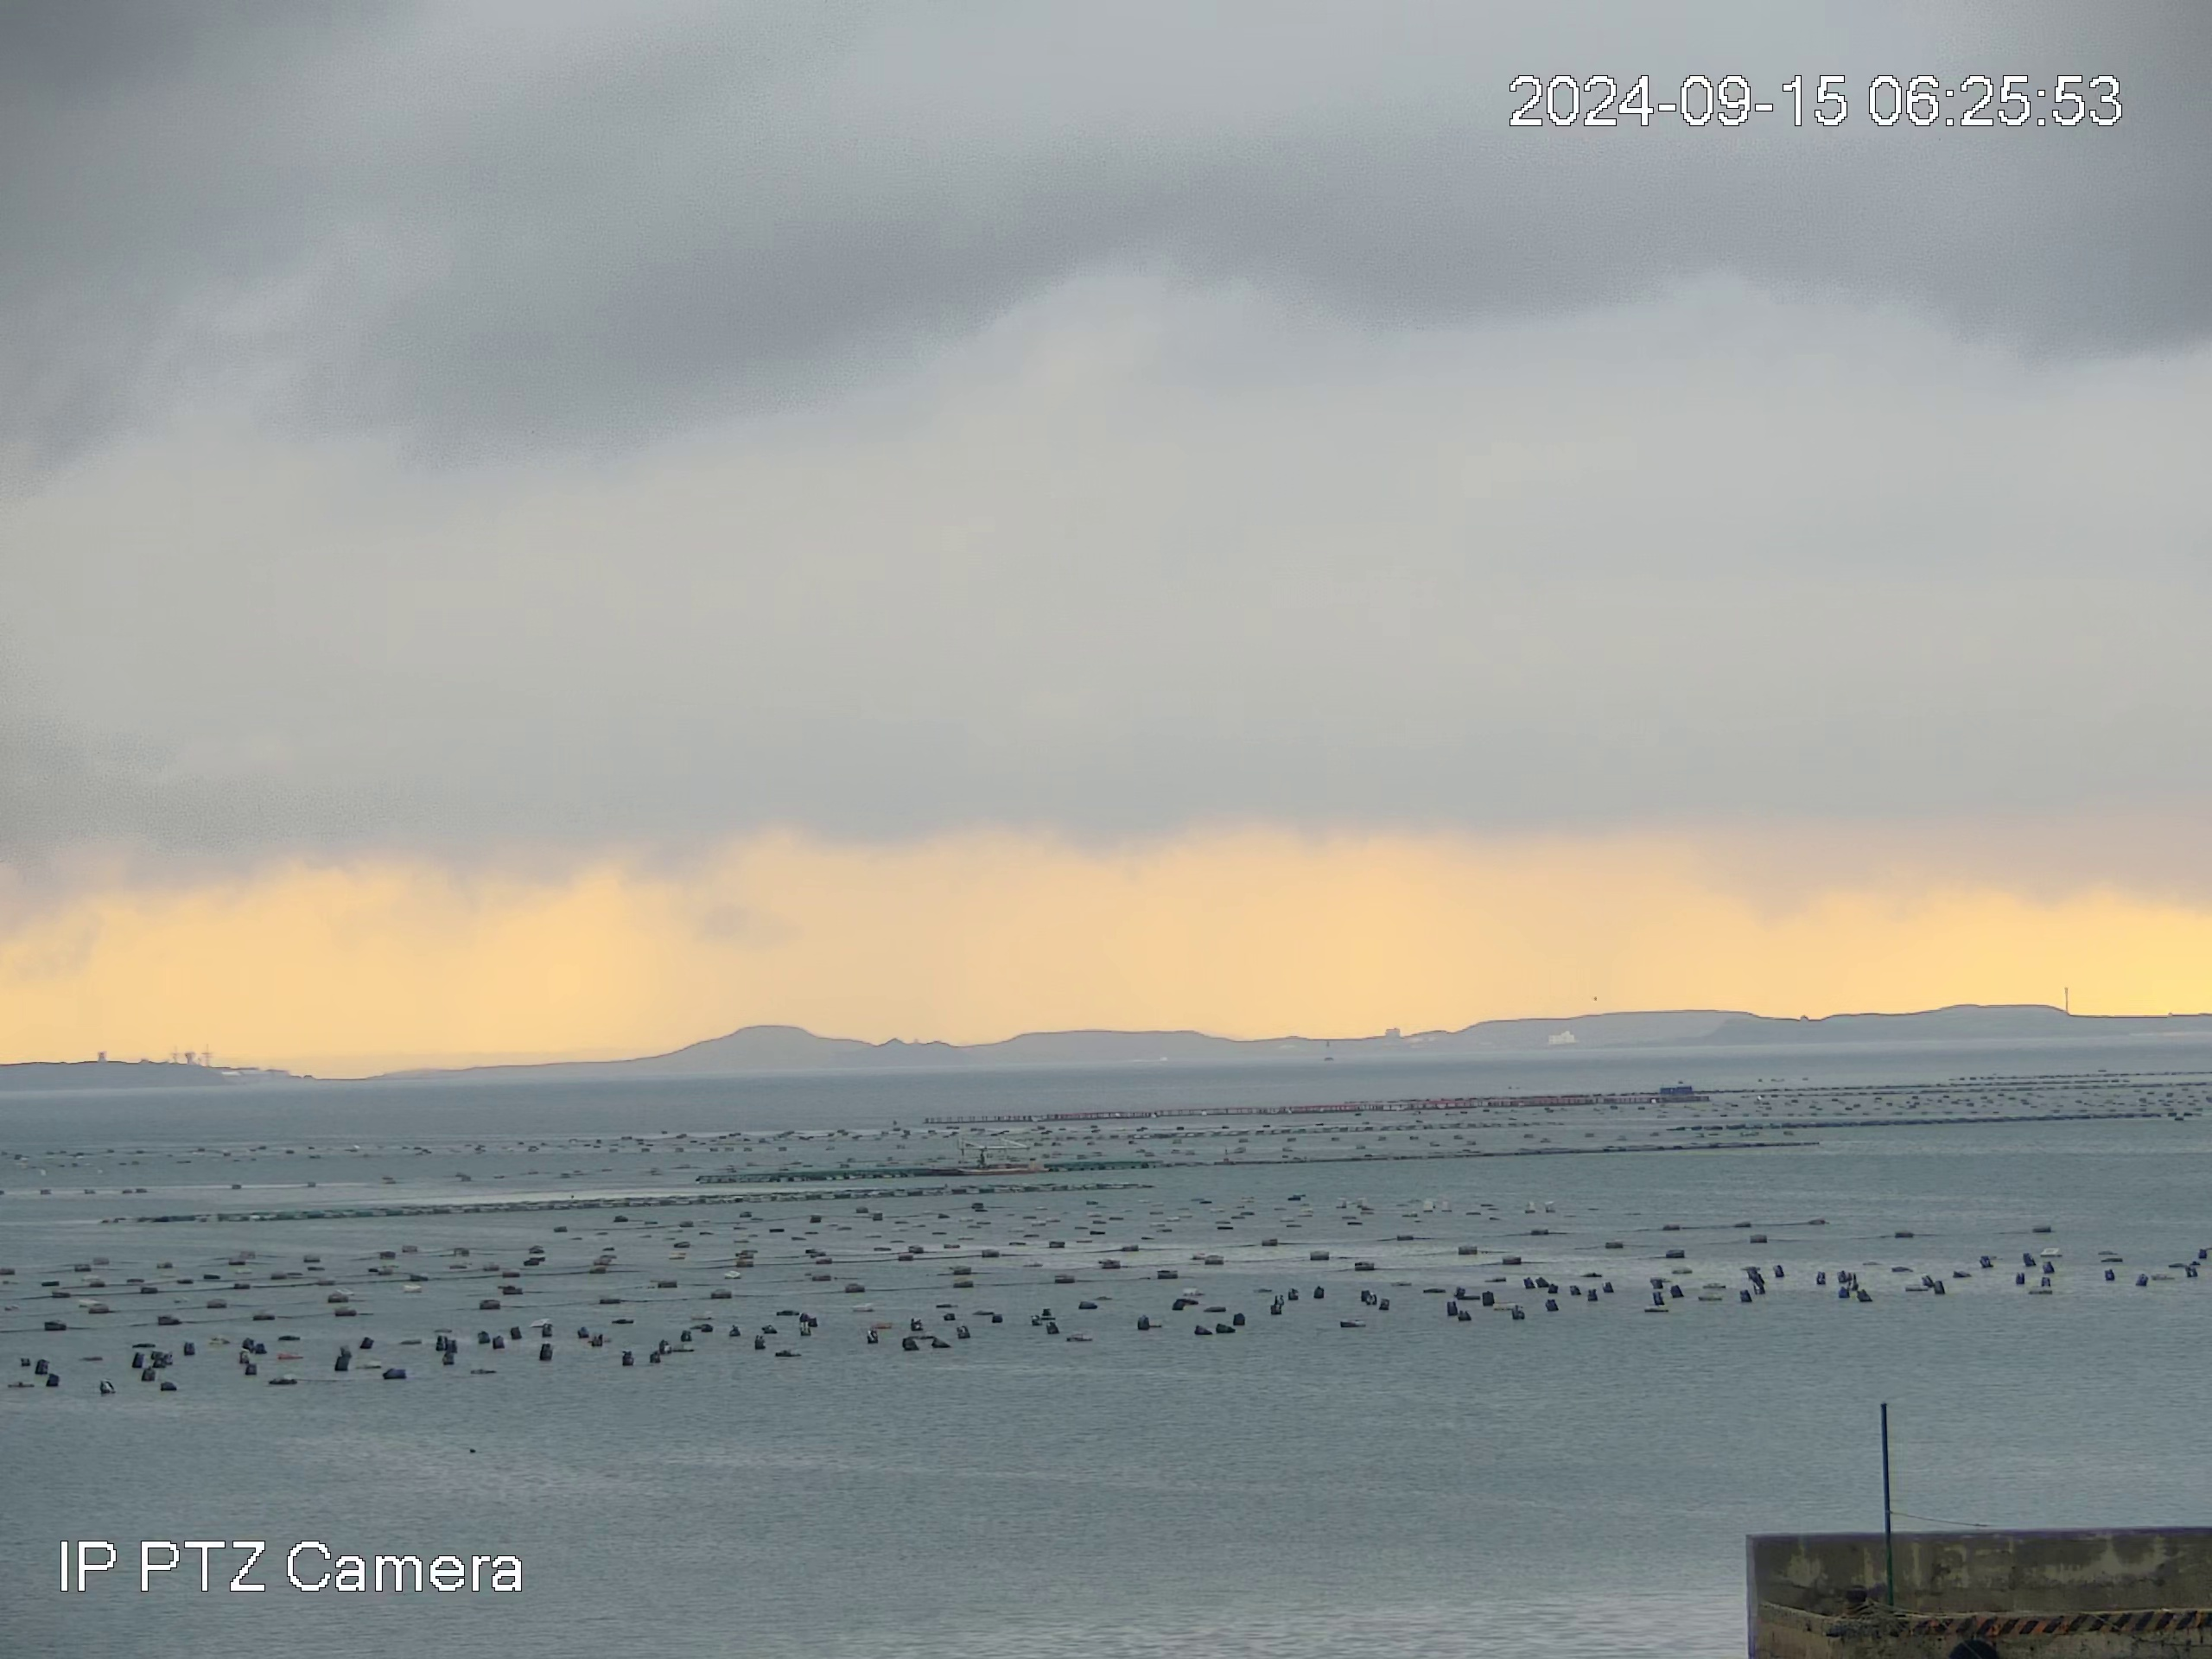boat: (953, 1134, 1052, 1178)
